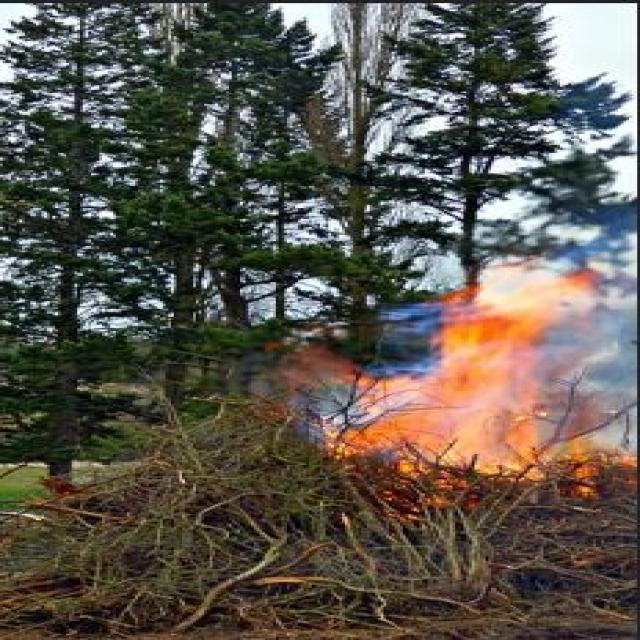Fire: (359, 261, 576, 484)
Smoke: (574, 214, 640, 446), (256, 350, 356, 433)
